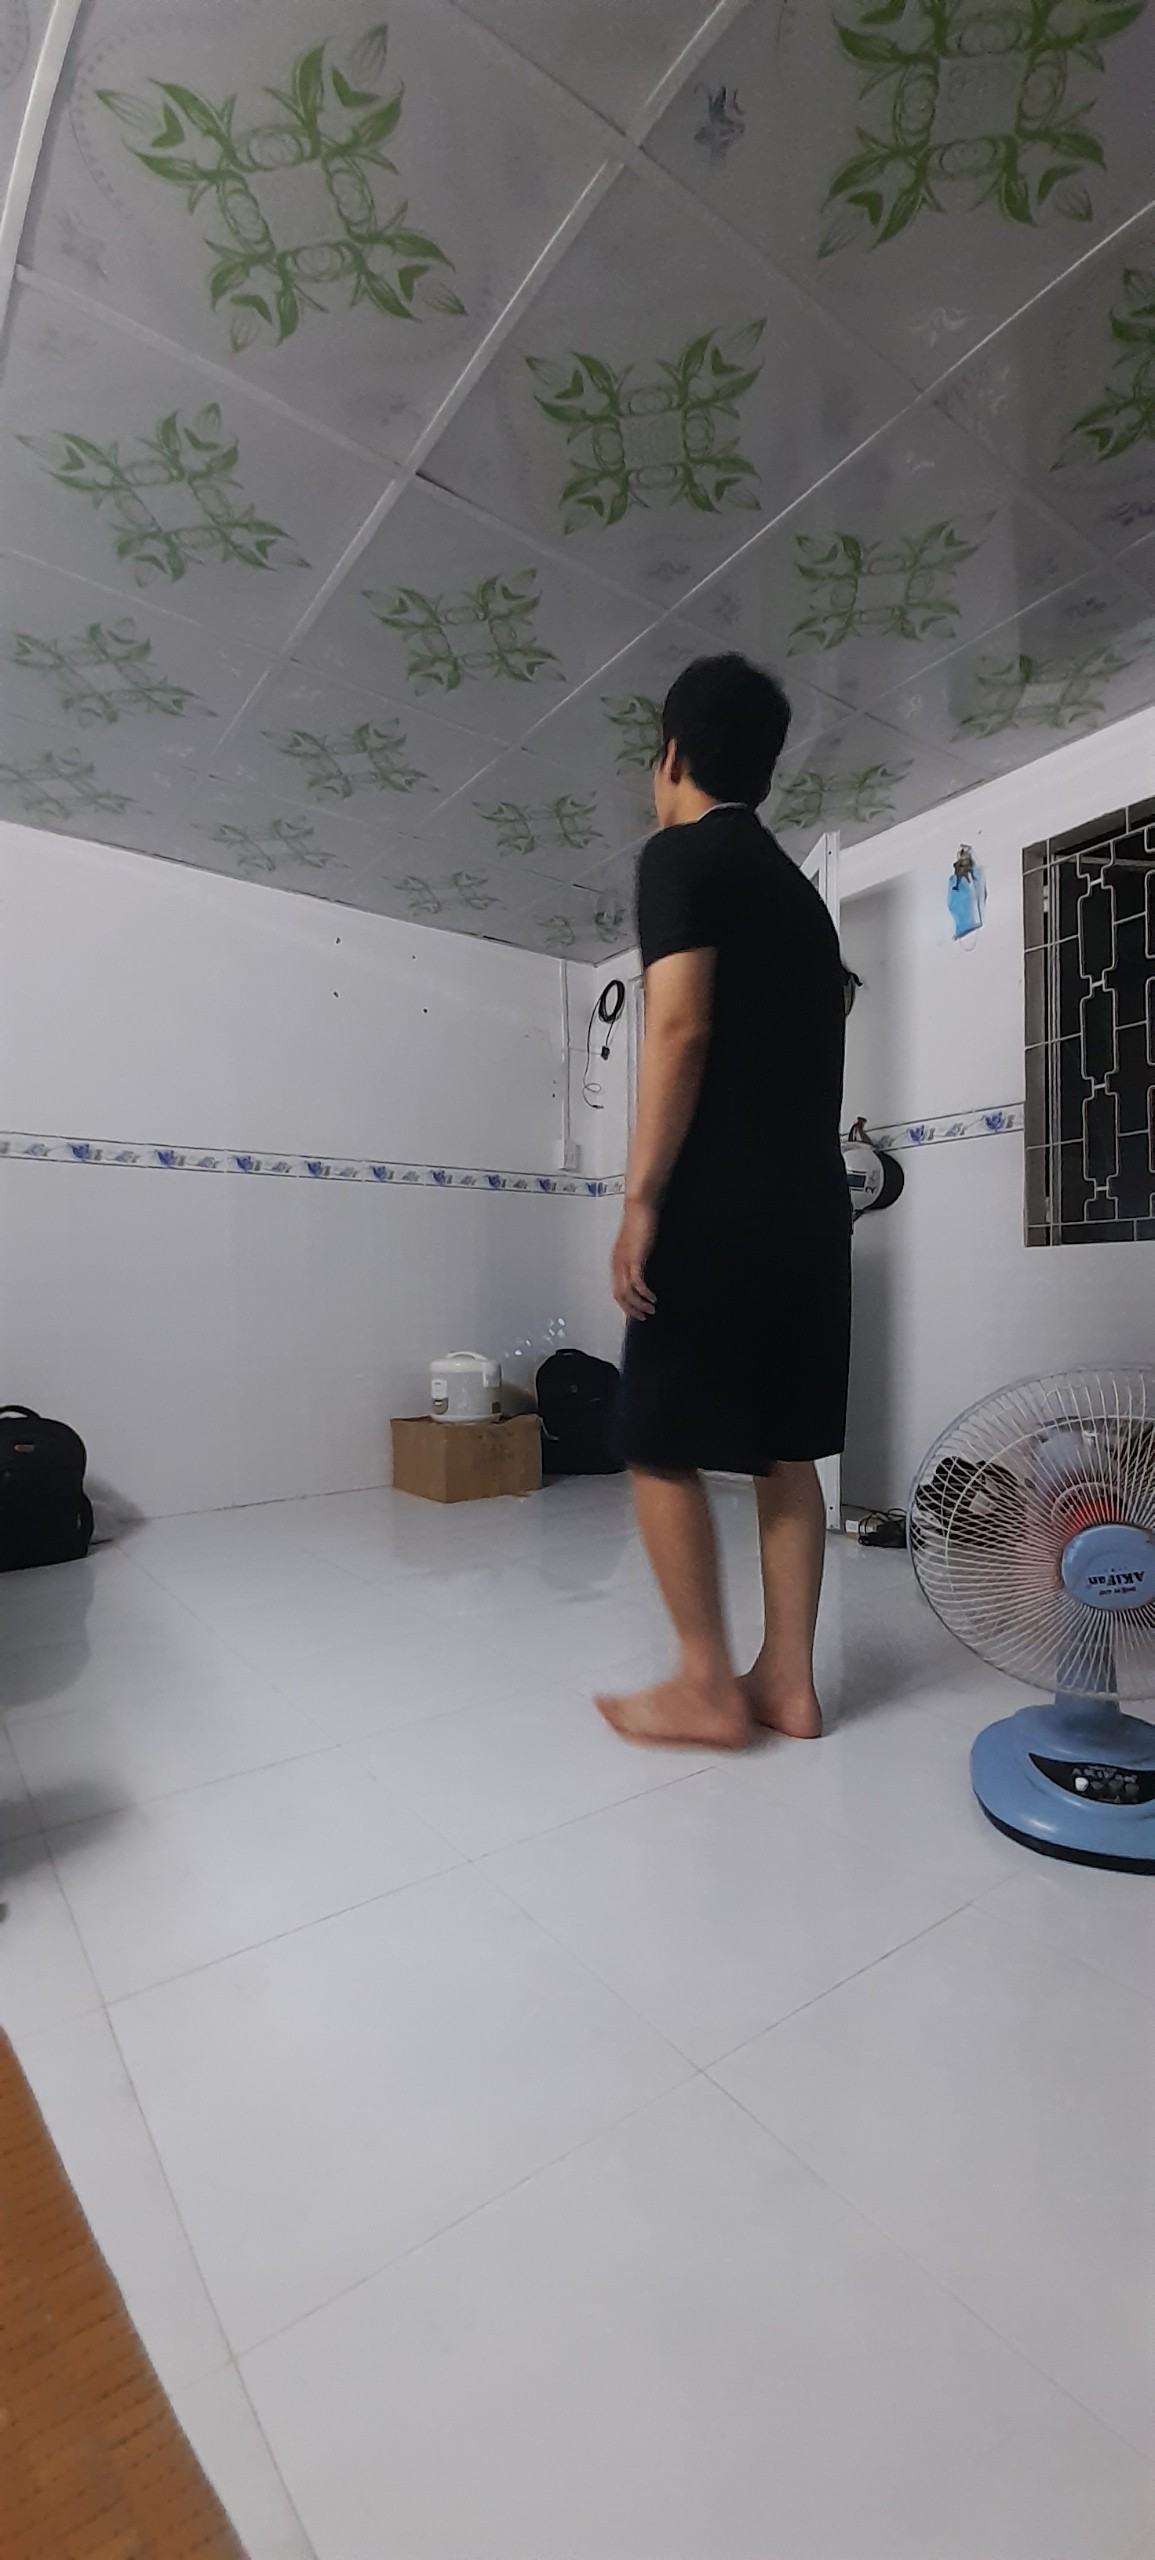person: (616, 660, 857, 1760)
